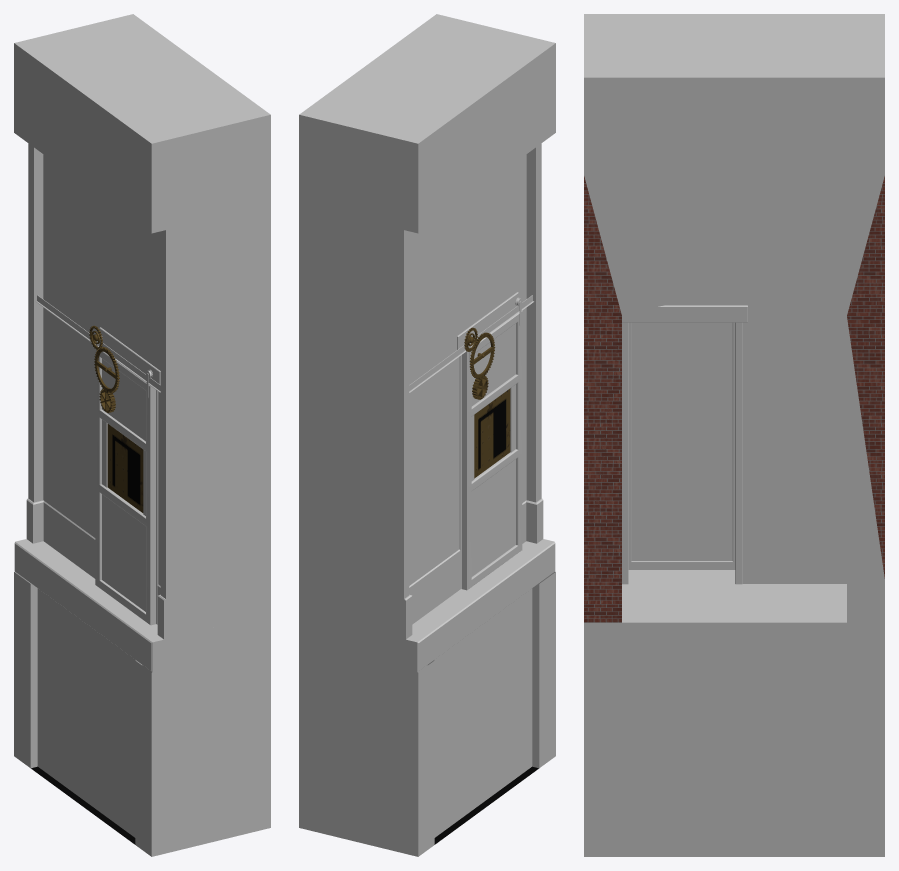
The model's file is WallDoor.fbx.
3 views of the same model, side by side, from view 1: azimuth 30°, elevation 25°; view 2: azimuth 150°, elevation 25°; view 3: azimuth 270°, elevation 25° (orthographic). The views are drawn at different scales.
Visible parts, largest first — view 1: WallDoor, FloorFoundation, Door, GearArms2; view 2: WallDoor, FloorFoundation, Door, GearArms2; view 3: WallDoor, FloorFoundation, Door.
Part boxes in pixels (left/top/right/bottom): WallDoor: left=14, top=14, right=270, bottom=639; FloorFoundation: left=14, top=539, right=270, bottom=856; Door: left=95, top=334, right=155, bottom=625; GearArms2: left=94, top=346, right=119, bottom=393; WallDoor: left=299, top=14, right=555, bottom=639; FloorFoundation: left=299, top=539, right=555, bottom=856; Door: left=462, top=297, right=522, bottom=590; GearArms2: left=469, top=332, right=495, bottom=378; WallDoor: left=584, top=14, right=884, bottom=622; FloorFoundation: left=584, top=570, right=884, bottom=856; Door: left=628, top=322, right=735, bottom=569.
Bounding box in the file's own units: 250 × 1430 × 500.
